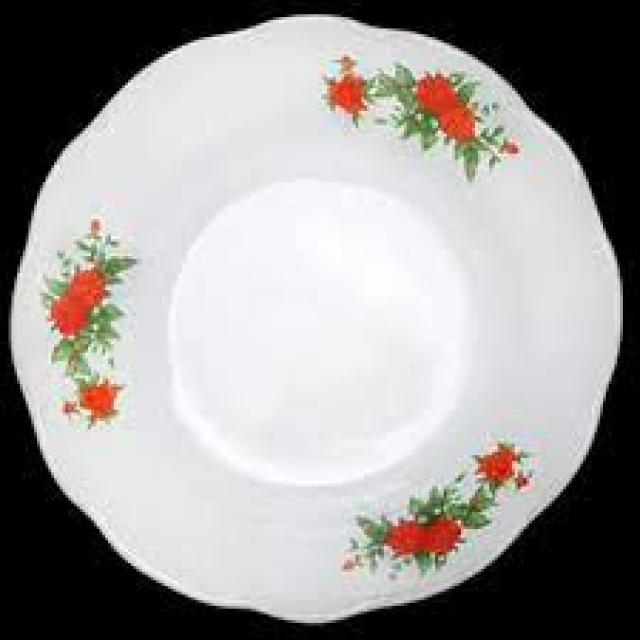Plate: (13, 11, 621, 629)
